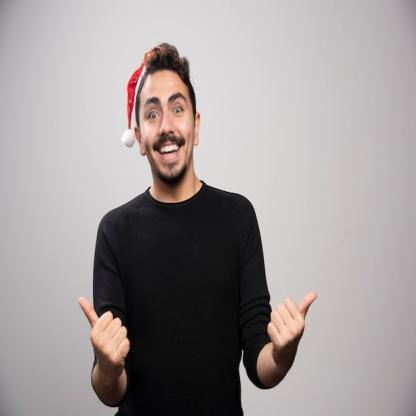thumb_up: (73, 292, 138, 373), (266, 285, 318, 357)
